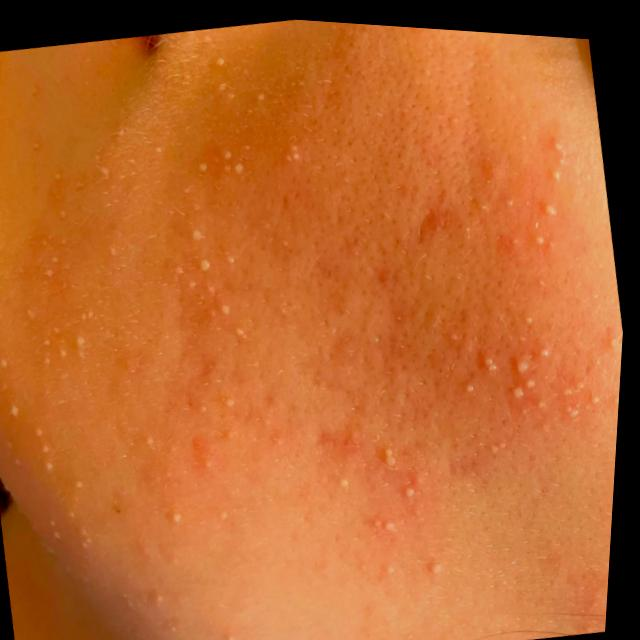whitehead: (0, 39, 315, 533), (322, 122, 626, 558)
